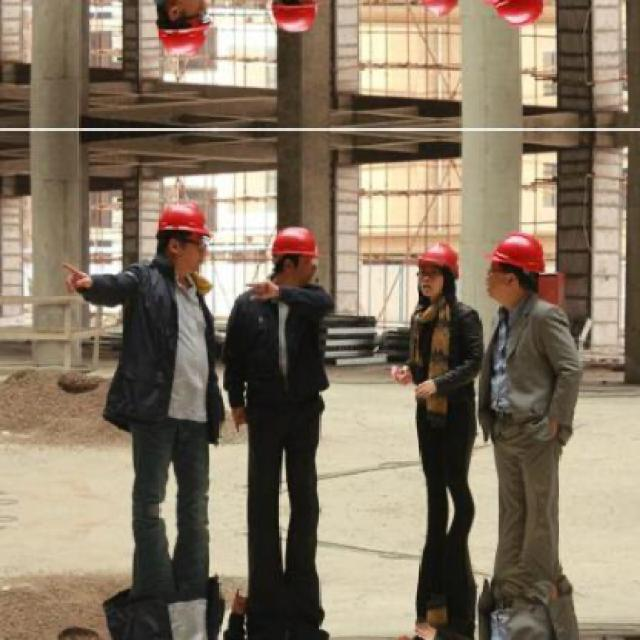con casco: (248, 215, 336, 328), (119, 198, 218, 294), (460, 210, 551, 312), (397, 230, 478, 313)
